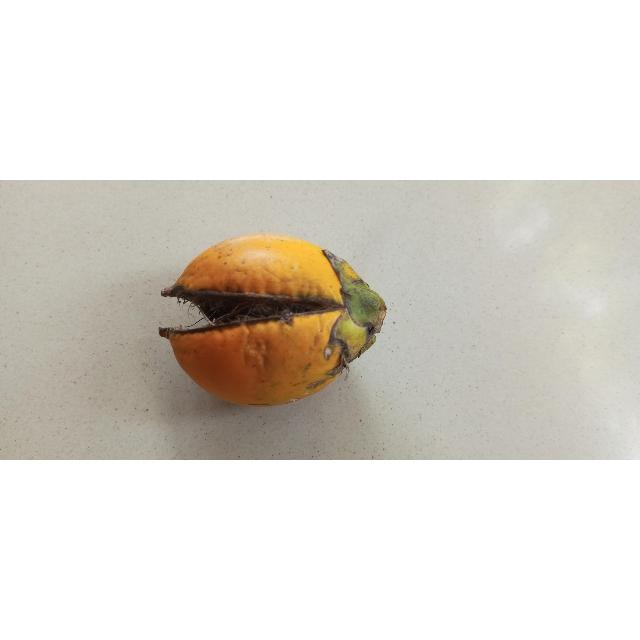damaged: (158, 233, 389, 408)
